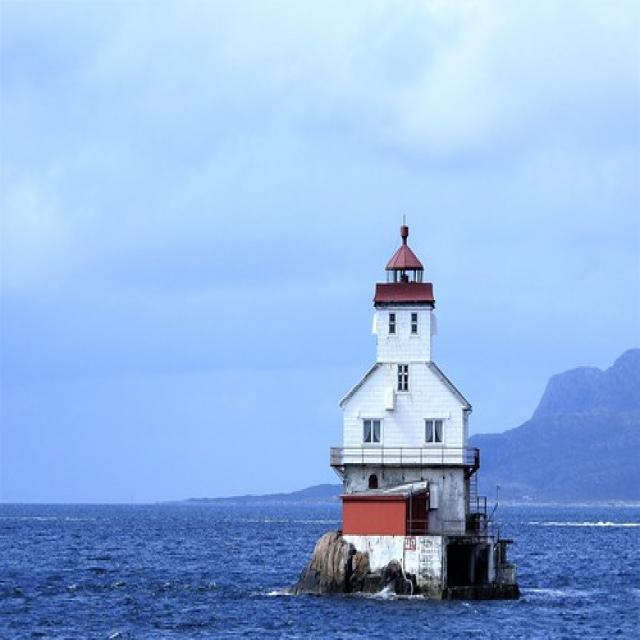Normal_building: (297, 255, 523, 605)
